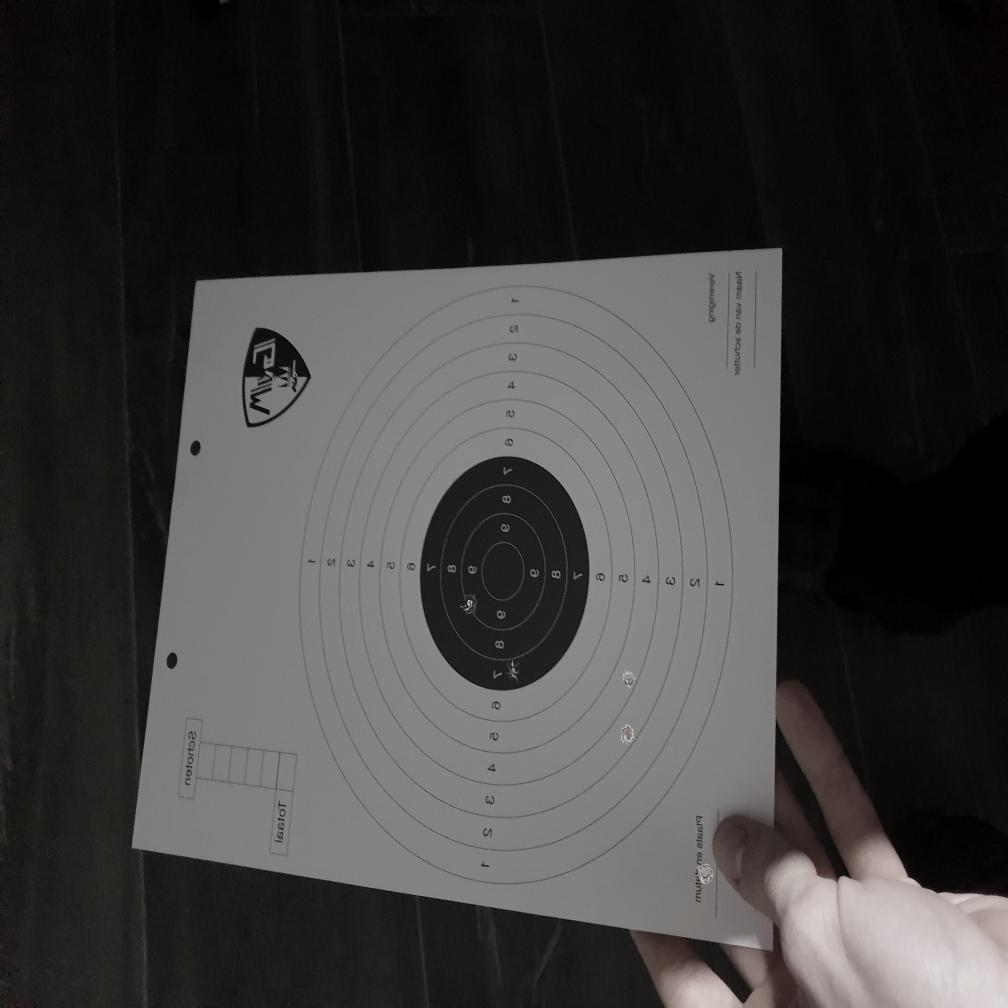0: (698, 863, 713, 885)
3: (620, 724, 634, 745)
4: (622, 670, 634, 688)
8: (505, 657, 521, 683)
9: (460, 593, 477, 615)
Target: (297, 284, 733, 891)
black_contour: (419, 455, 589, 692)
